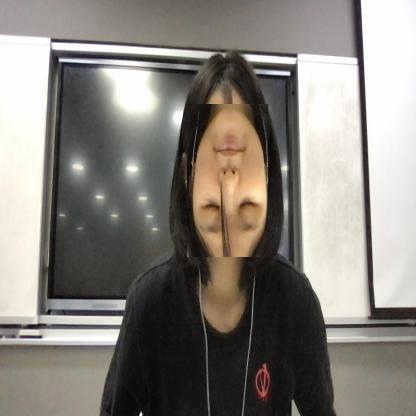happy: (187, 104, 269, 258)
